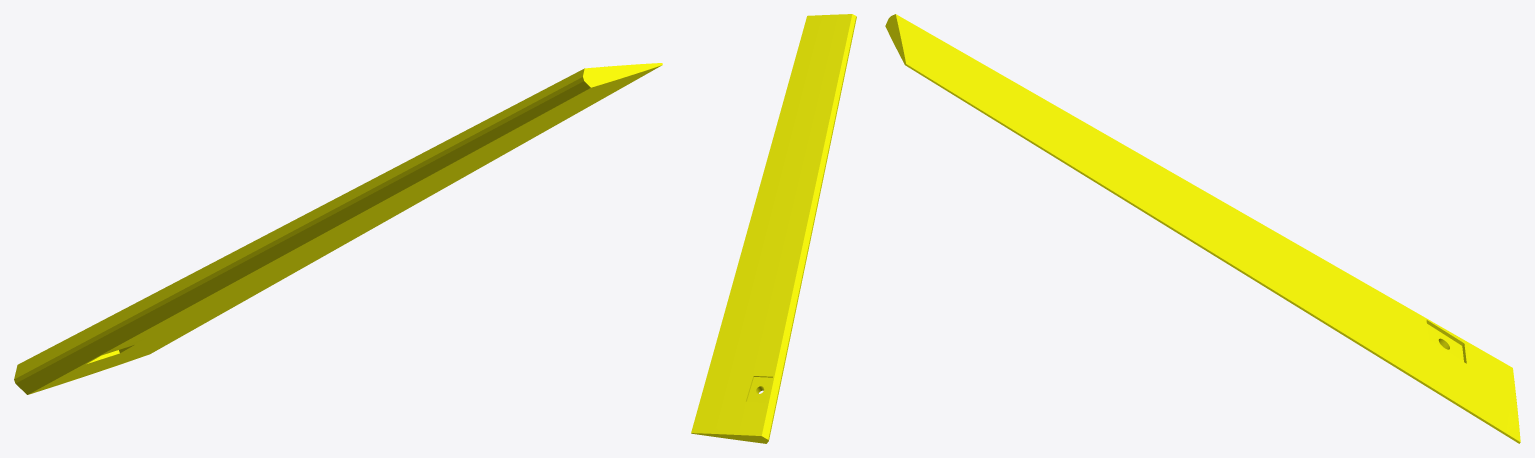
Rendered from believer_taileron_left.dae.
The picture shows the model from 3 angles, left to right: view 1: azimuth 30°, elevation 25°; view 2: azimuth 150°, elevation 25°; view 3: azimuth 270°, elevation 25°; orthographic projection. The views are drawn at different scales.
Parts seen in each view (by area): view 1: ID2; view 2: ID2; view 3: ID2.
Boxes of the visible parts, x1=… form: ID2: x1=14, y1=63, x2=662, y2=394; ID2: x1=691, y1=14, x2=856, y2=443; ID2: x1=885, y1=14, x2=1520, y2=443.
Size of the model in its own units: 0.1114 by 0.2607 by 0.2049.
